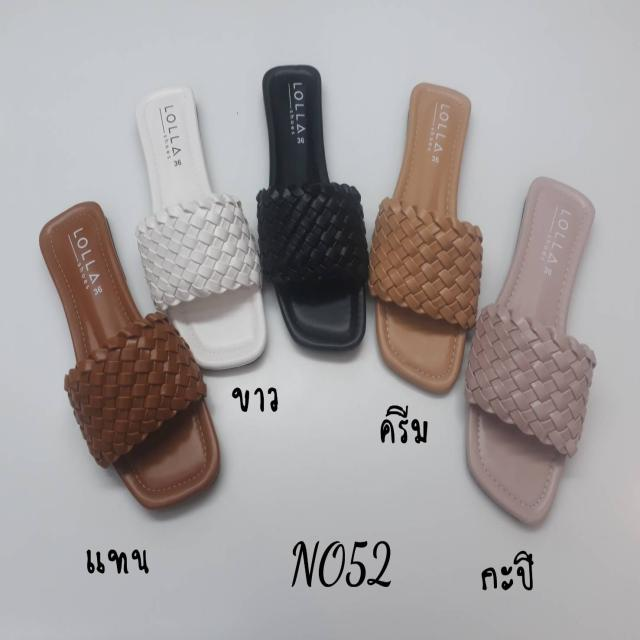black: (262, 65, 372, 350)
cream: (377, 80, 478, 372)
kapi: (470, 177, 597, 526)
tan: (34, 201, 215, 502)
white: (136, 86, 268, 372)
